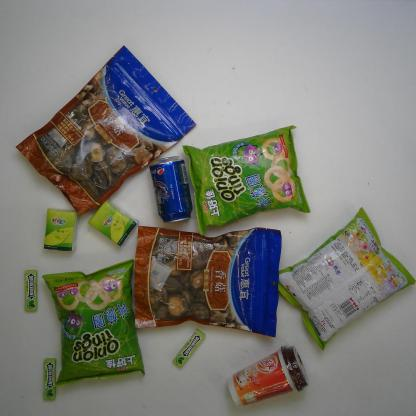Dried Food: (15, 44, 196, 216), (133, 224, 282, 338)
Drink: (146, 156, 194, 224)
Gum: (172, 328, 206, 369), (41, 356, 58, 404), (23, 270, 39, 314)
Instant Drink: (228, 345, 309, 408)
Puffed Food: (264, 207, 414, 350), (182, 124, 310, 234), (42, 258, 146, 386)
Tissue: (86, 200, 137, 246), (42, 208, 78, 253)
